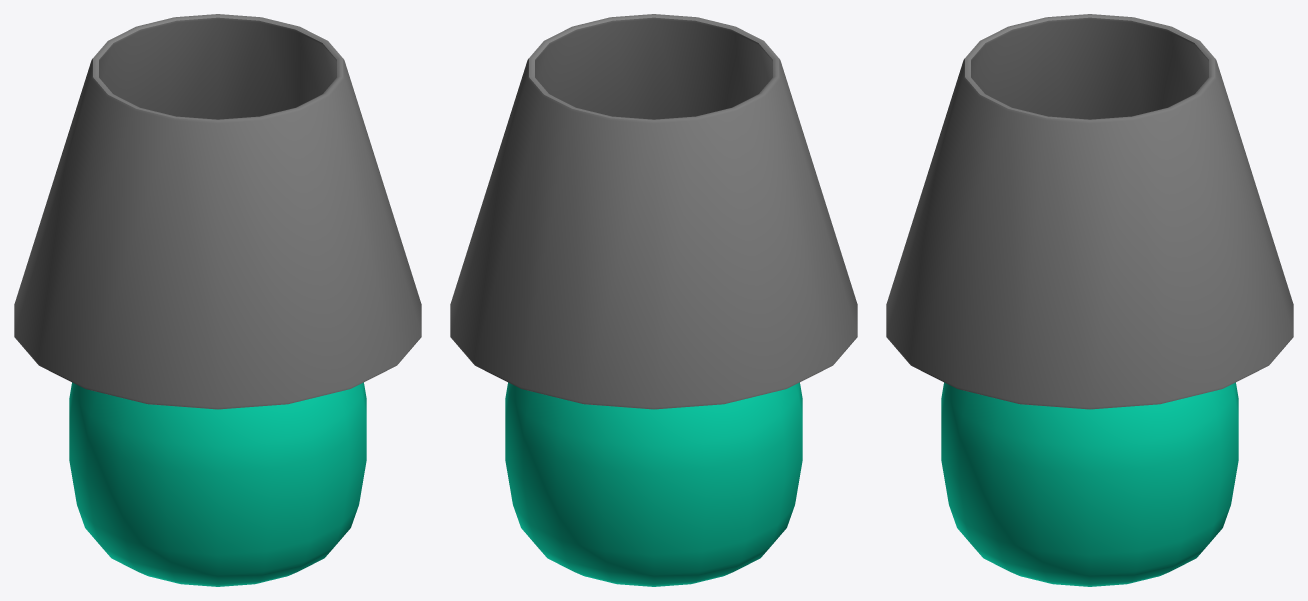
3 views of the same model, side by side, from view 1: azimuth 30°, elevation 25°; view 2: azimuth 150°, elevation 25°; view 3: azimuth 270°, elevation 25° (orthographic).
Visible parts, largest first — view 1: Cylinder001; view 2: Cylinder001; view 3: Cylinder001.
Part boxes in pixels (x1,y1,x2,y2): Cylinder001: (14, 14, 421, 586); Cylinder001: (450, 14, 857, 586); Cylinder001: (886, 14, 1293, 586).
Bounding box in the file's own units: 114 × 145 × 112.
